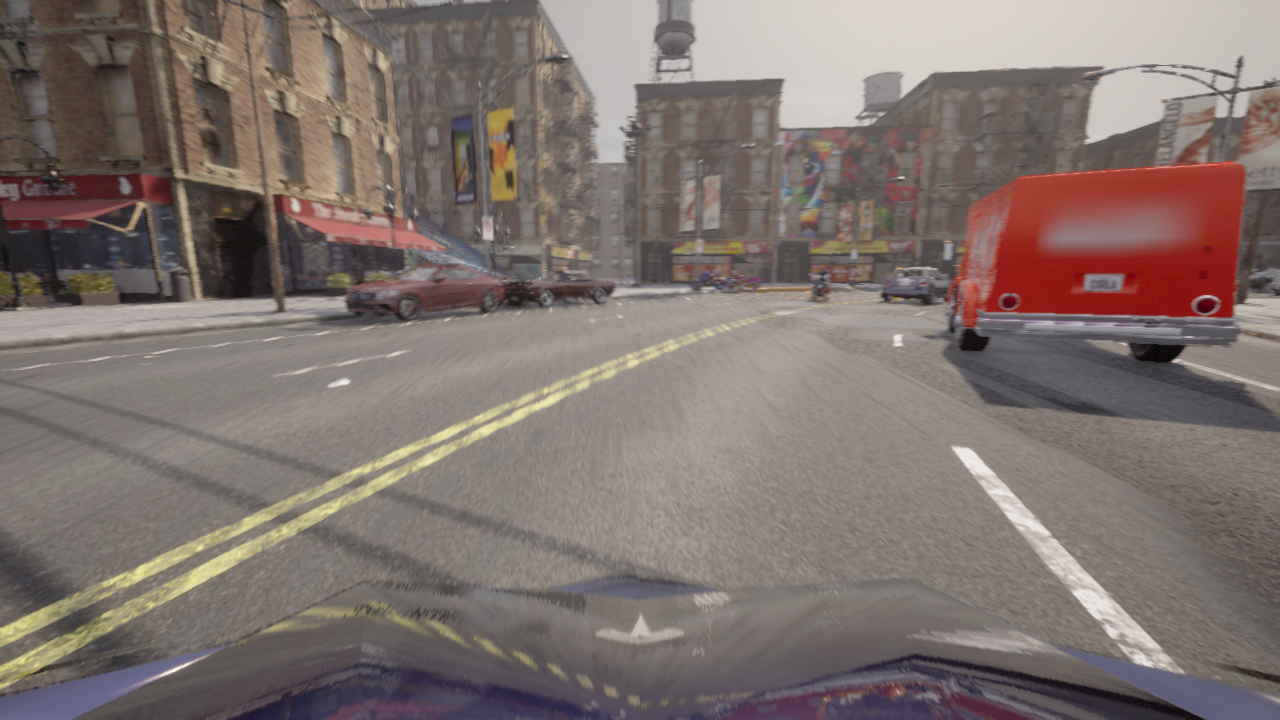cyclist: (0, 569, 1279, 719), (942, 162, 1246, 362), (345, 264, 504, 320), (502, 271, 615, 307), (882, 267, 952, 303), (690, 271, 723, 289), (810, 273, 830, 301), (728, 271, 760, 288), (1249, 270, 1279, 286), (720, 271, 743, 289), (624, 274, 643, 286), (1268, 277, 1279, 295)
